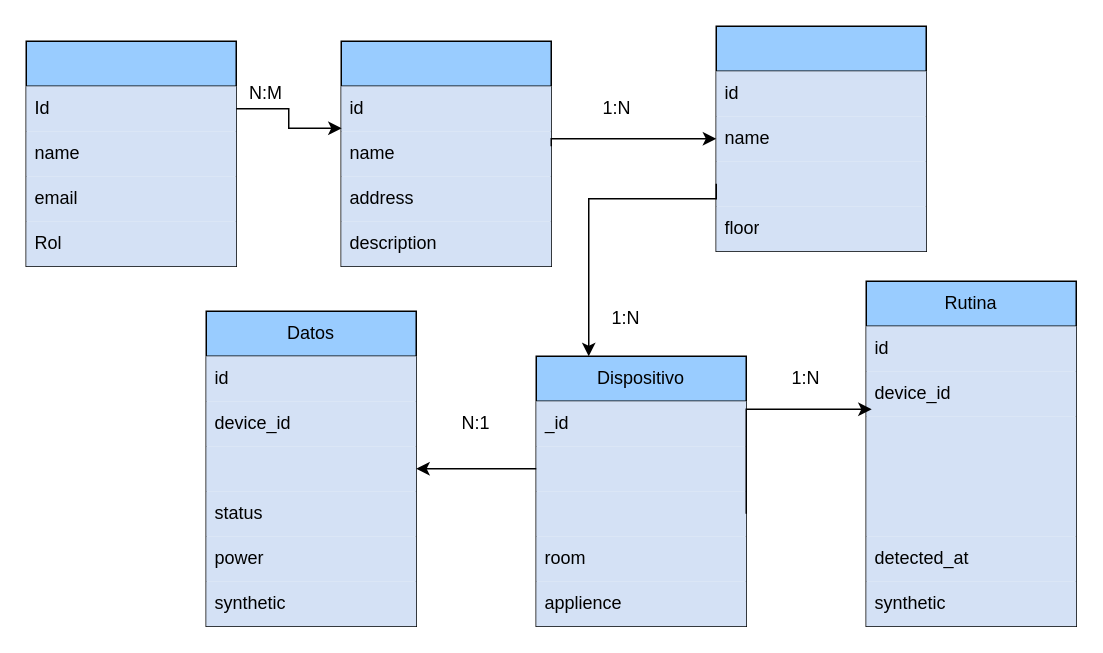
This 1103x653 diagram has some shape labels left out. Each missing label, with the box of its shape:
Habitación: (715, 25, 926, 251)
Hogar/Espacio: (340, 40, 551, 266)
home_id: (716, 160, 926, 206)
plugmodel: (536, 446, 746, 490)
routine: { hour_range days frequency }: (866, 416, 1076, 536)
time: (206, 446, 416, 490)
user: (536, 490, 746, 536)
Usuario: (25, 40, 236, 266)
